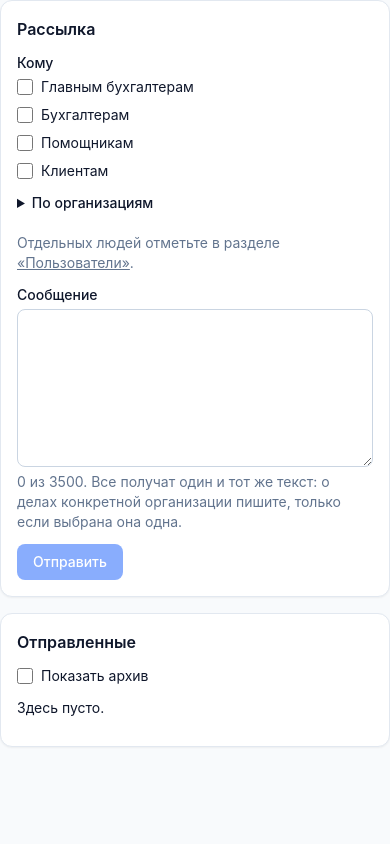
Test: рассылка › показывает получателей и отправляет только после подтверждения
The image size is (390, 844).
Later steps or results of the test are not shown.
Expected: the button "Отправить" is disabled, [17, 544, 123, 580]
What coordinates should you click on to do the following:
click the checkbox labelled "Клиентам"
I would click on:
 (25, 171)
Its box is [17, 163, 33, 179].
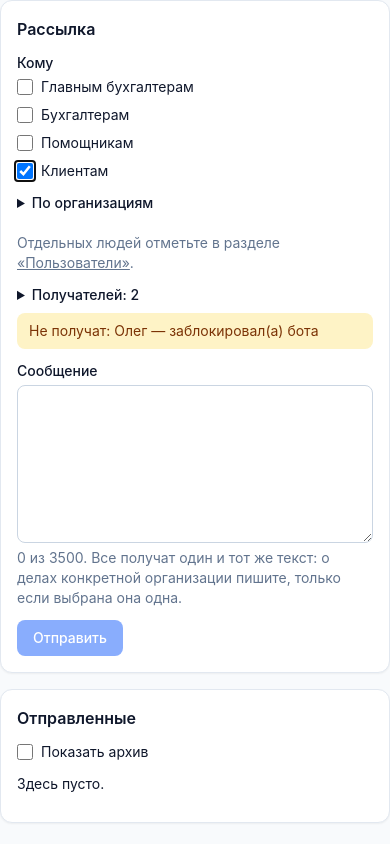
Expected: the heading "Получателей: 2" is shown, [32, 286, 139, 303]
Expected: the text "Не получат: Олег — заблокировал(а) бота" is shown, [17, 313, 373, 349]
